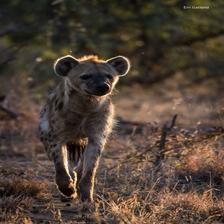hyena: (44, 53, 137, 206)
